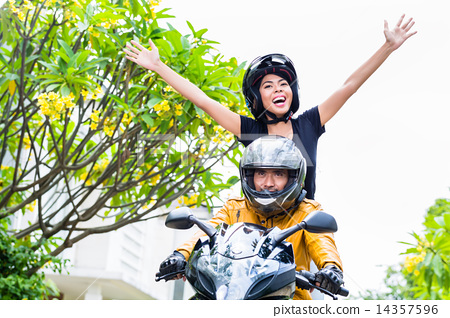helmet: (237, 139, 315, 213), (239, 49, 305, 114)
